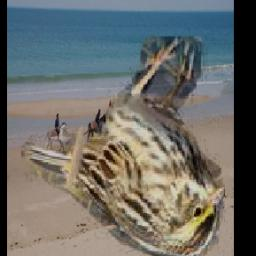Sparrow: (21, 36, 225, 256)
